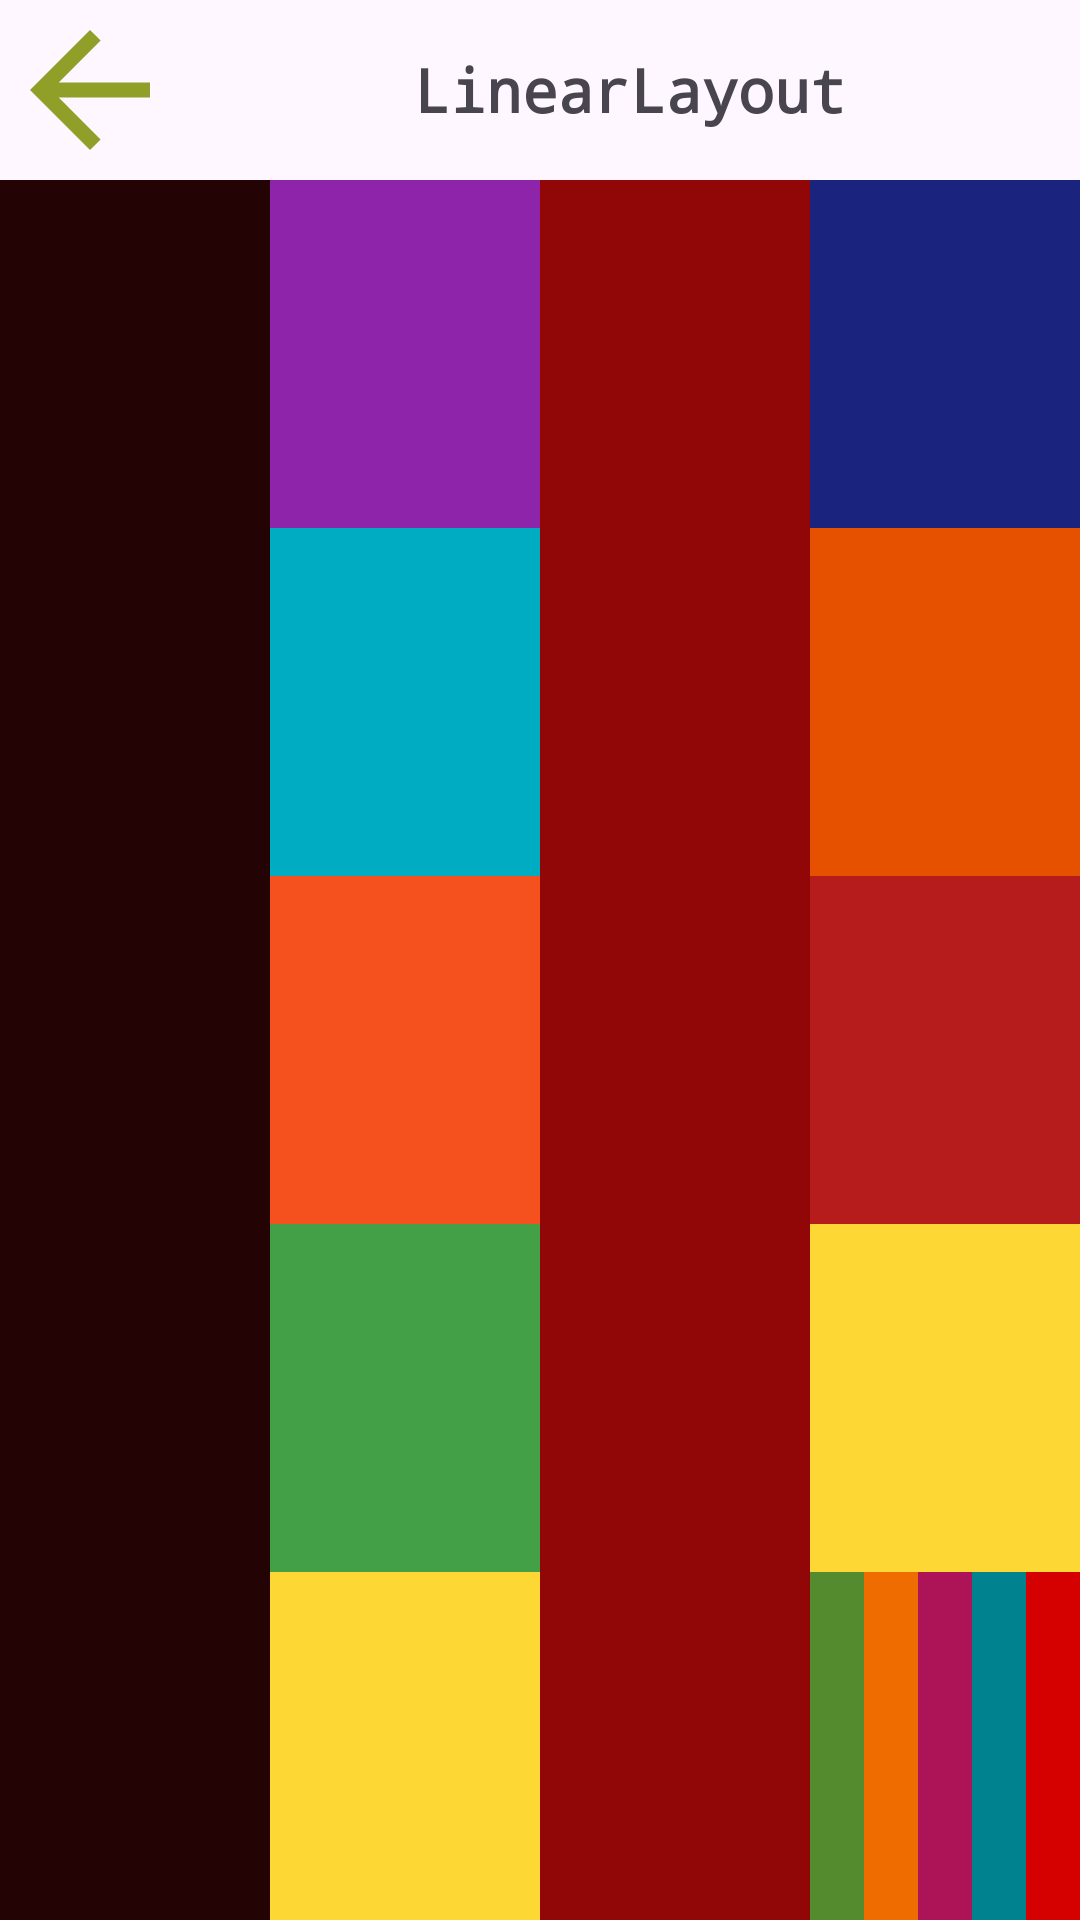

Screen size 1080*1920. Icon name, then its center in pixels as [x,y]:
arrow back: [90,90]
